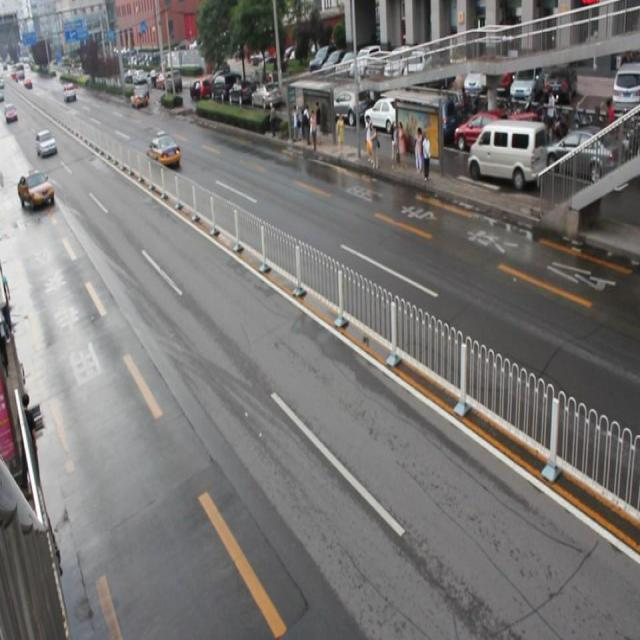car: (17, 170, 54, 209), (145, 130, 180, 168)
